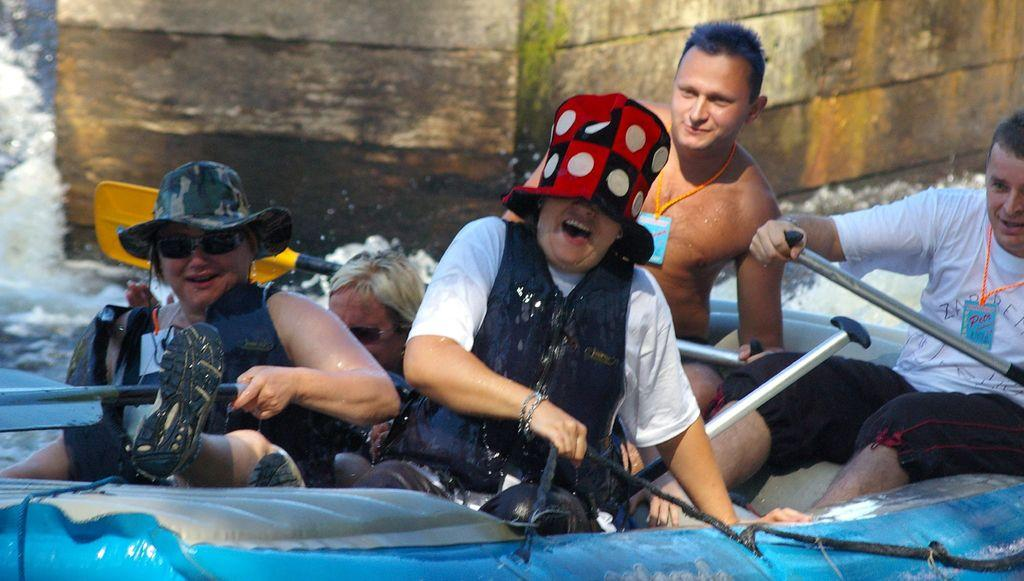Hat: (499, 93, 667, 269), (116, 161, 295, 262)
